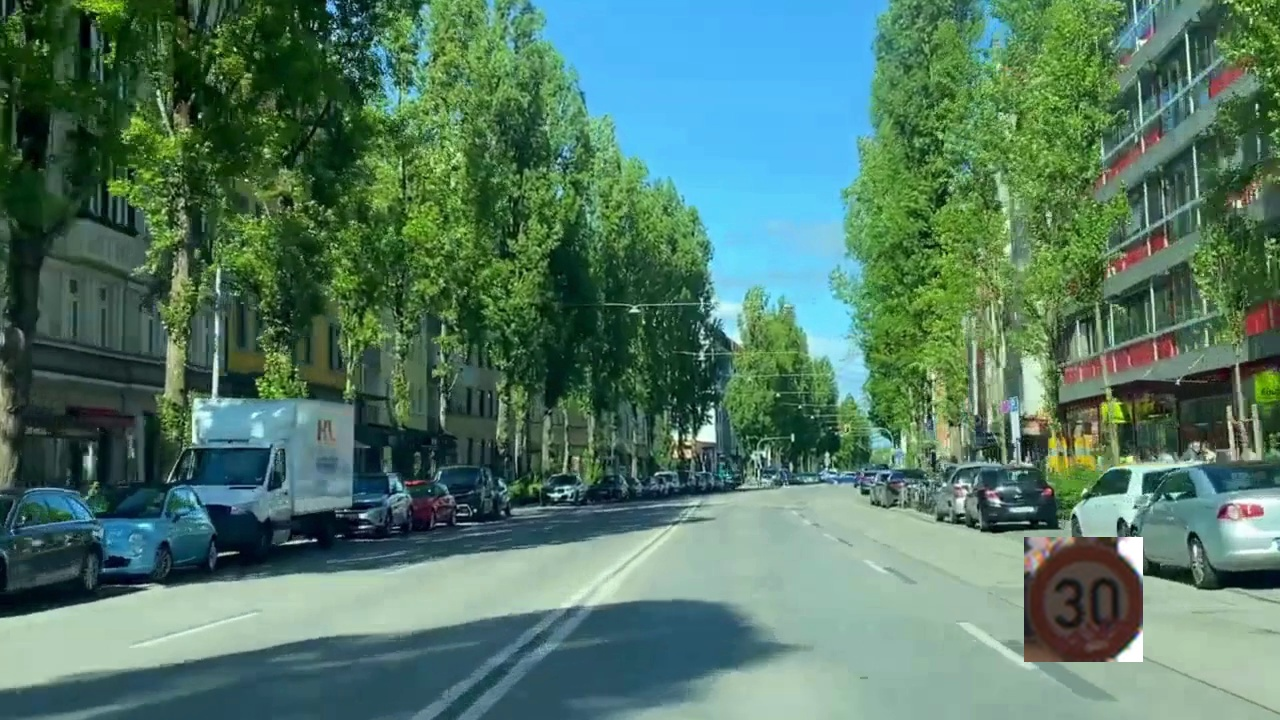Speed 30: (1024, 537, 1143, 662)
